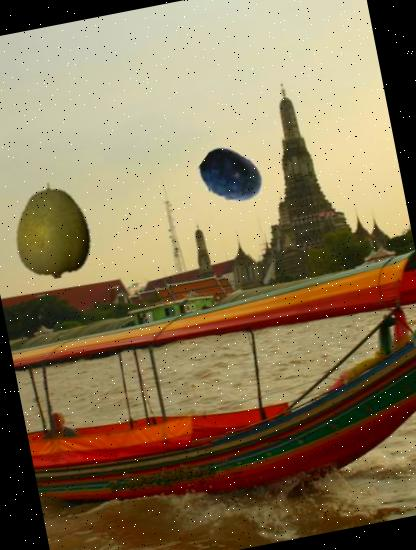Blueberry: (193, 138, 269, 214)
Pear: (0, 172, 109, 286)
